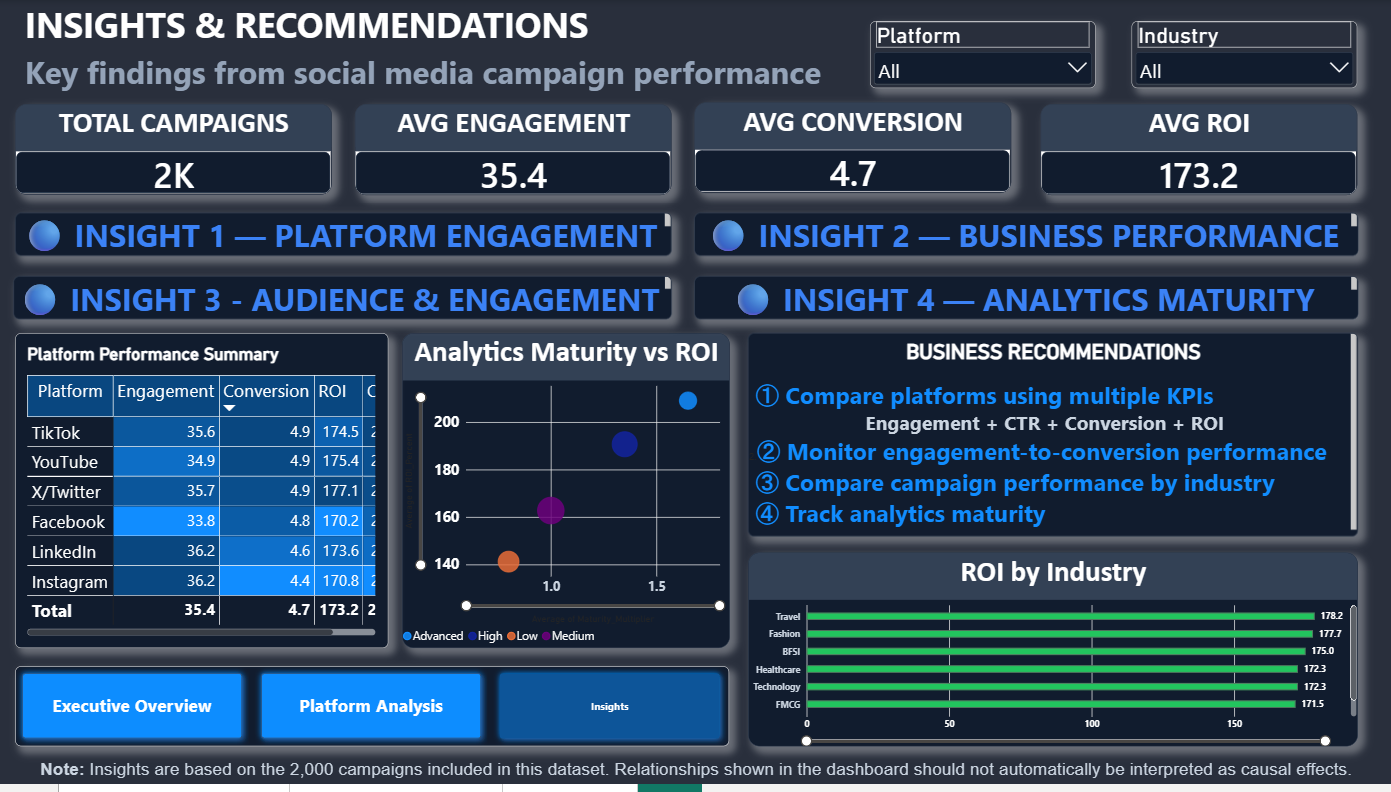

The page's visual inventory and layout, read from the dashboard file:
{"tool":"powerbi","page":{"name":"Insights ","canvas":[1920,1080],"ordinal":2},"visuals":[{"type":"textbox","box":[23.1,0,1897.7,148.9],"z":0},{"type":"slicer","fields":{"Values":["Social-Media-Analytics-Dataset.Platform"]},"box":[1199.2,28.2,310.7,92.4],"z":1000},{"type":"slicer","fields":{"Values":["Social-Media-Analytics-Dataset.Industry"]},"box":[1561.3,28.2,310.7,92.4],"z":2000},{"type":"cardVisual","title":"AVG ROI","fields":{"Data":["Avg(Social-Media-Analytics-Dataset.ROI_Percent)"]},"box":[1435.5,143.8,436,125.8],"z":3000},{"type":"cardVisual","title":"AVG CONVERSION","fields":{"Data":["Avg(Social-Media-Analytics-Dataset.Conversion_Rate)"]},"box":[957.8,141.2,436,125],"z":4000},{"type":"cardVisual","title":"TOTAL CAMPAIGNS","fields":{"Data":["CountNonNull(Social-Media-Analytics-Dataset.Campaign_ID)"]},"box":[23.1,143.8,436,125],"z":5000},{"type":"cardVisual","title":"AVG ENGAGEMENT","fields":{"Data":["Avg(Social-Media-Analytics-Dataset.Engagement_Rate)"]},"box":[490.5,143.8,436.5,125.8],"z":6000},{"type":"clusteredBarChart","title":"ROI by Industry","fields":{"Category":["Social-Media-Analytics-Dataset.Industry"],"Y":["Avg(Social-Media-Analytics-Dataset.ROI_Percent)"]},"box":[1032.3,760.1,839.7,267.1],"z":7000},{"type":"scatterChart","title":"Analytics Maturity vs ROI","fields":{"Series":["Social-Media-Analytics-Dataset.Analytics_Maturity"],"Size":["CountNonNull(Social-Media-Analytics-Dataset.Campaign_ID)"],"X":["Avg(Social-Media-Analytics-Dataset.Maturity_Multiplier)"],"Y":["Avg(Social-Media-Analytics-Dataset.ROI_Percent)"]},"box":[554.7,459.7,452,434],"z":8000},{"type":"textbox","box":[23.1,292.7,903.9,59.1],"z":9000},{"type":"textbox","box":[957.8,292.7,914.2,59.1],"z":10000},{"type":"textbox","box":[20.5,380.1,906.5,59.1],"z":11000},{"type":"textbox","box":[957.8,380.1,914.2,59.1],"z":12000},{"type":"pivotTable","title":"Platform Performance Summary","fields":{"Rows":["Social-Media-Analytics-Dataset.Platform"],"Values":["Avg(Social-Media-Analytics-Dataset.Engagement_Rate)","Avg(Social-Media-Analytics-Dataset.Conversion_Rate)","Avg(Social-Media-Analytics-Dataset.ROI_Percent)","Avg(Social-Media-Analytics-Dataset.Click_Through_Rate)"]},"box":[23.1,459.7,513.6,434],"z":13000},{"type":"textbox","box":[1032.3,459.7,839.7,279.9],"z":14000},{"type":"textbox","box":[0,1045.1,1920.8,36],"z":15000},{"type":"pageNavigator","box":[23.1,916.7,983.5,110.4],"z":16000}]}

Visuals, with their boxes in screenshot pixels (x1, y1, x2, y2), scaled from the page's 1920x1080 canvas onto the 1391x792 screenshot:
textbox: (x1=17, y1=0, x2=1390, y2=109)
slicer - Social-Media-Analytics-Dataset.Platform: (x1=869, y1=21, x2=1094, y2=88)
slicer - Social-Media-Analytics-Dataset.Industry: (x1=1131, y1=21, x2=1356, y2=88)
"AVG ROI" cardVisual: (x1=1040, y1=105, x2=1356, y2=198)
"AVG CONVERSION" cardVisual: (x1=694, y1=104, x2=1010, y2=195)
"TOTAL CAMPAIGNS" cardVisual: (x1=17, y1=105, x2=333, y2=197)
"AVG ENGAGEMENT" cardVisual: (x1=355, y1=105, x2=672, y2=198)
"ROI by Industry" clusteredBarChart: (x1=748, y1=557, x2=1356, y2=753)
"Analytics Maturity vs ROI" scatterChart: (x1=402, y1=337, x2=729, y2=655)
textbox: (x1=17, y1=215, x2=672, y2=258)
textbox: (x1=694, y1=215, x2=1356, y2=258)
textbox: (x1=15, y1=279, x2=672, y2=322)
textbox: (x1=694, y1=279, x2=1356, y2=322)
"Platform Performance Summary" pivotTable: (x1=17, y1=337, x2=389, y2=655)
textbox: (x1=748, y1=337, x2=1356, y2=542)
textbox: (x1=0, y1=766, x2=1390, y2=791)
pageNavigator: (x1=17, y1=672, x2=729, y2=753)
